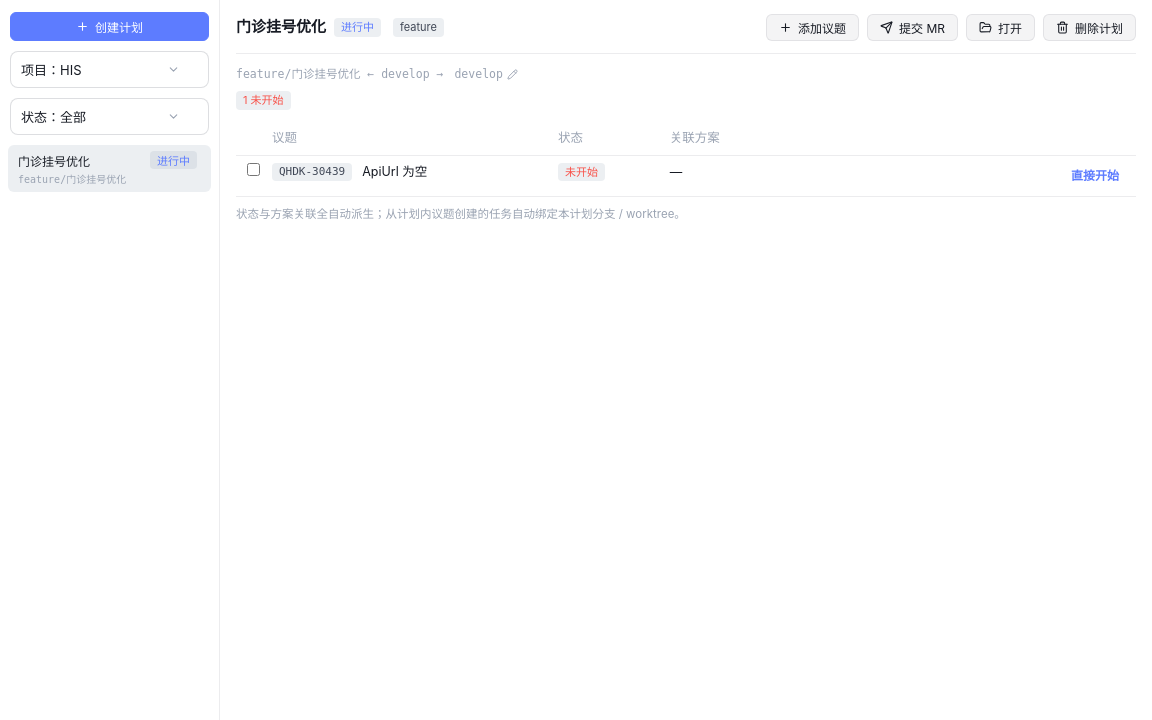
Test: SubmitMrDialog › shows the backend error when the MR cannot be created
Click the button "提交 MR".
click(912, 28)  # box left=867, top=14, right=958, bottom=41
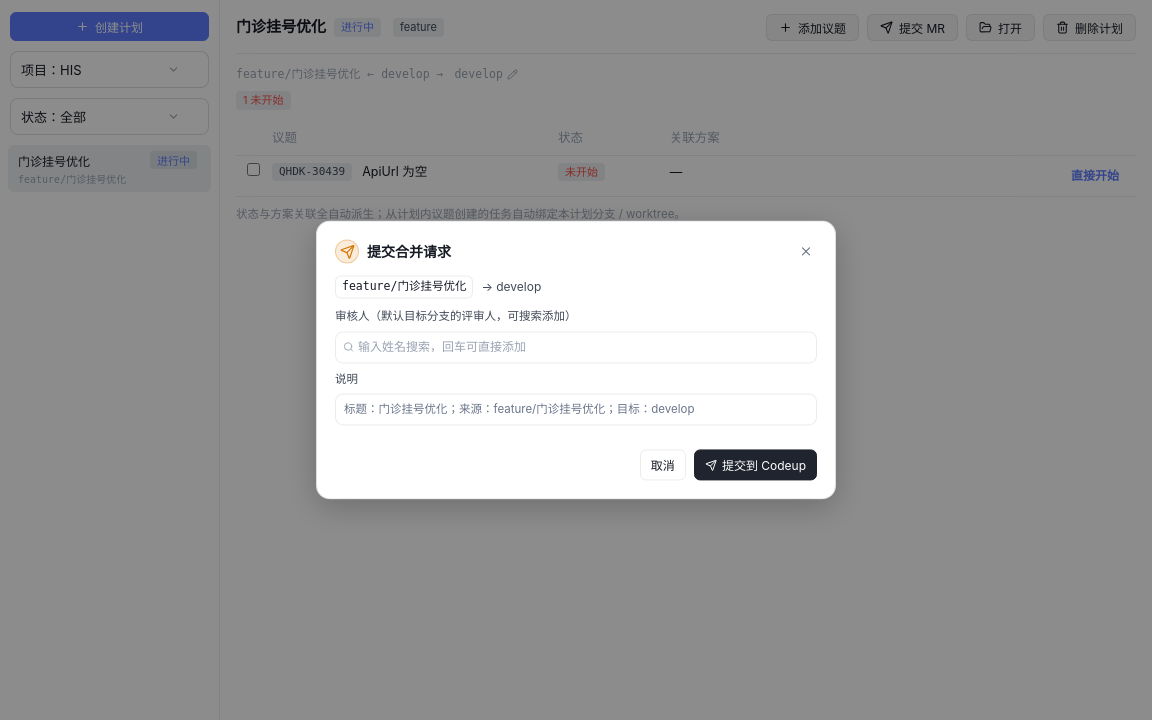
Click the button "提交到 Codeup".
click(755, 465)  # box left=694, top=450, right=817, bottom=481
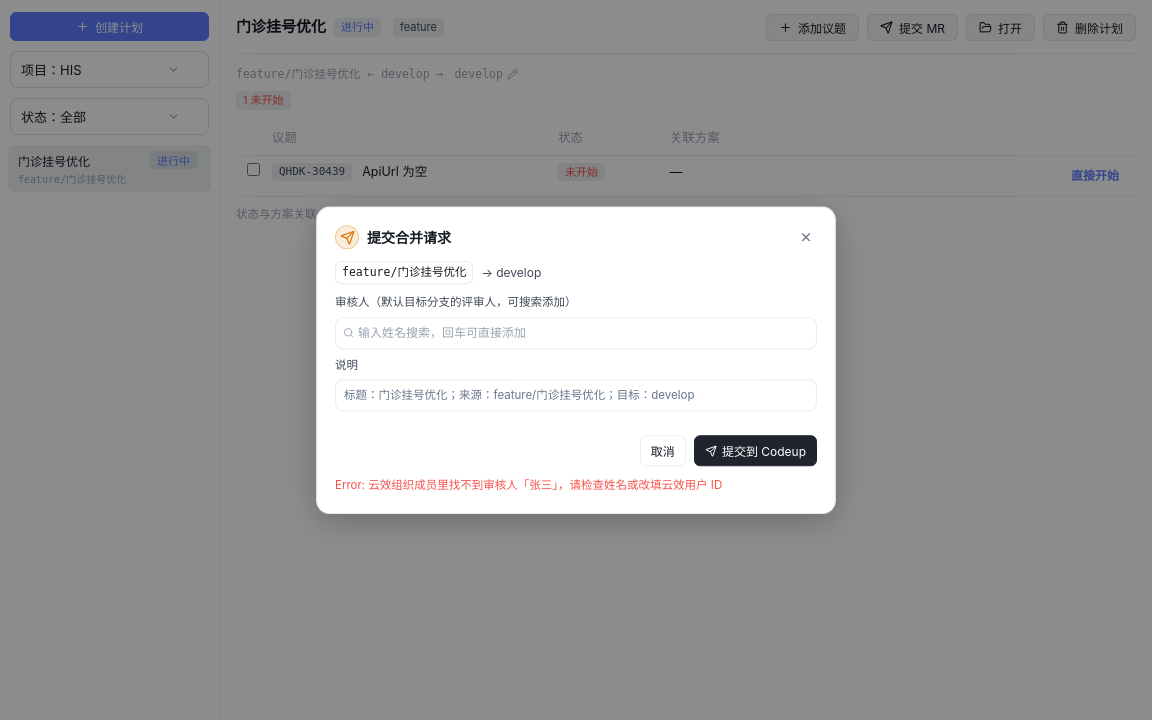
Expected: the button "提交到 Codeup" is shown, left=694, top=435, right=817, bottom=466
Expected: the text "Error: 云效组织成员里找不到审核人「张三」，请检查姓名或改填云效用户 ID" is shown, left=335, top=478, right=722, bottom=492
